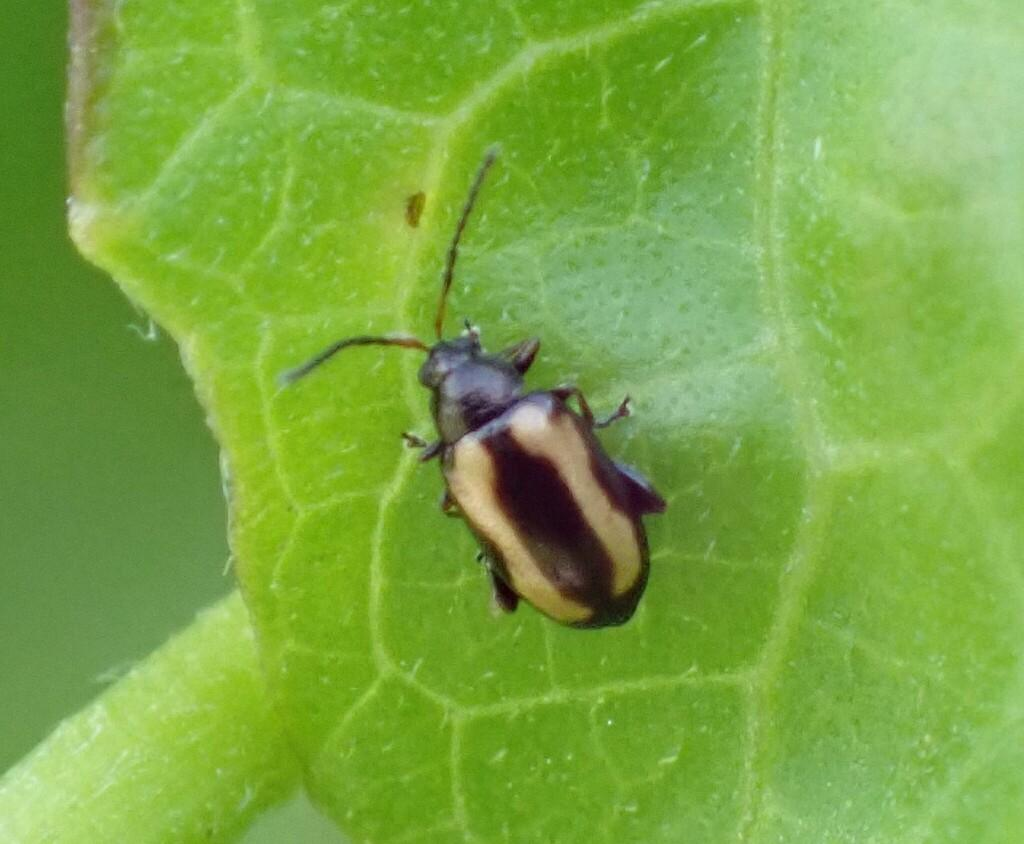flea_beetle: (215, 102, 790, 712)
